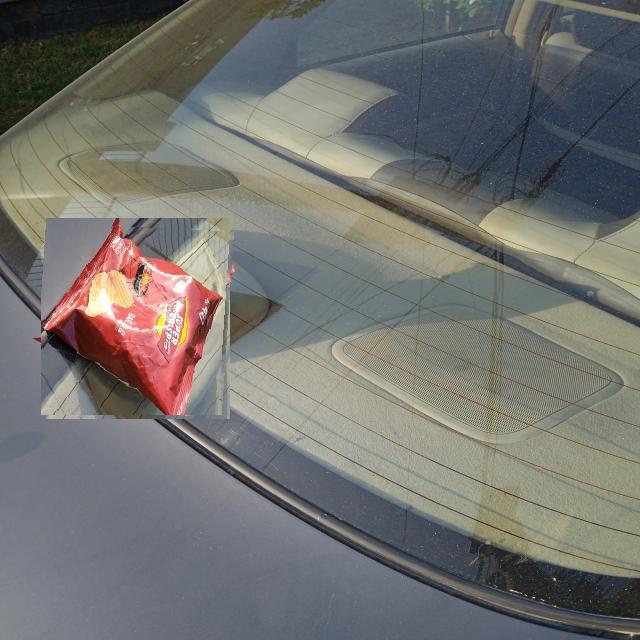Plastic: (41, 222, 234, 415)
